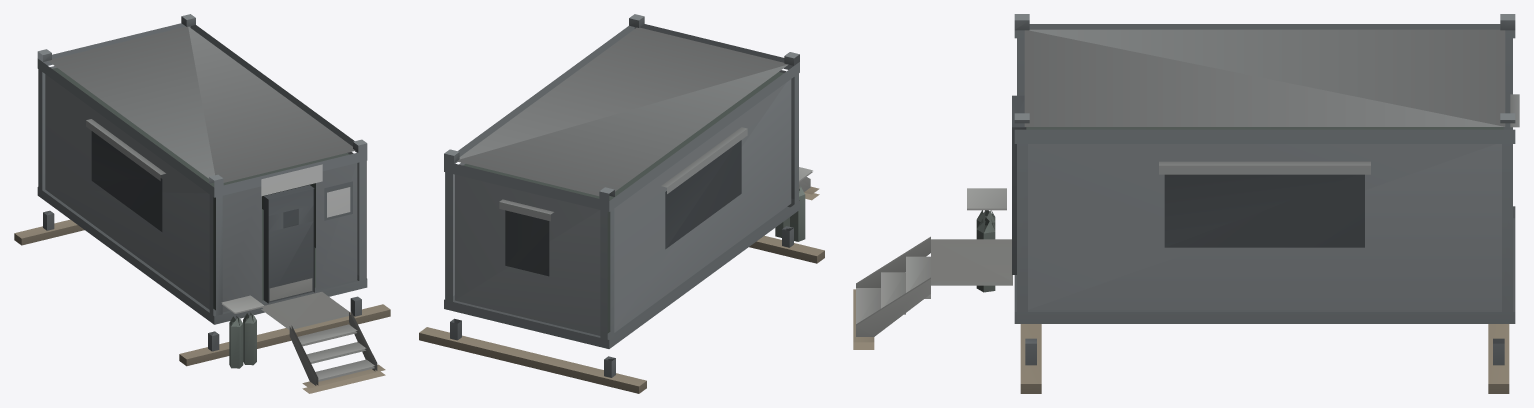
Rendered from cabin.lod.glb.
3 renders of one model, left to right at view 1: azimuth 30°, elevation 25°; view 2: azimuth 150°, elevation 25°; view 3: azimuth 270°, elevation 25°, orthographic. The views are drawn at different scales.
Parts seen in each view (by area): view 1: cabin; view 2: cabin; view 3: cabin.
Part boxes in pixels (x1,y1,x2,y2): cabin: (14, 14, 390, 393); cabin: (419, 14, 824, 393); cabin: (853, 14, 1519, 393).
Bounding box in the file's own units: 4 × 3.39 × 7.98.
